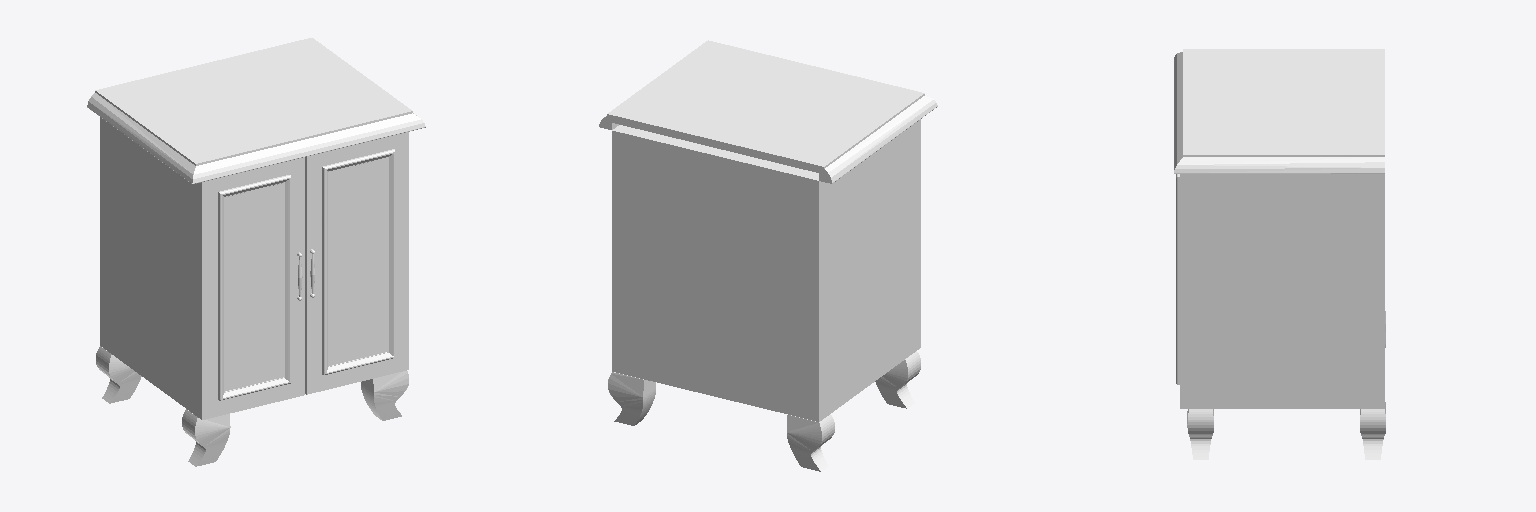
File: case1_white.obj
3 views of the same model, side by side, from view 1: azimuth 30°, elevation 25°; view 2: azimuth 150°, elevation 25°; view 3: azimuth 270°, elevation 25° (orthographic).
Visible parts, largest first — view 1: Layer_0, Line21, Line20, Line22; view 2: Layer_0, Line22, Line23, Line21; view 3: Layer_0, Line20, Line23.
Boxes of the visible parts, x1,y1,x2,y2 form: Layer_0: [87, 38, 425, 419]; Line21: [182, 409, 230, 466]; Line20: [361, 371, 408, 420]; Line22: [96, 346, 141, 403]; Layer_0: [599, 40, 937, 421]; Line22: [787, 414, 834, 471]; Line23: [608, 372, 655, 425]; Line21: [875, 351, 920, 408]; Layer_0: [1174, 49, 1384, 408]; Line20: [1187, 409, 1213, 459]; Line23: [1360, 402, 1385, 459].
Size of the model in its own units: 576 by 725 by 454.